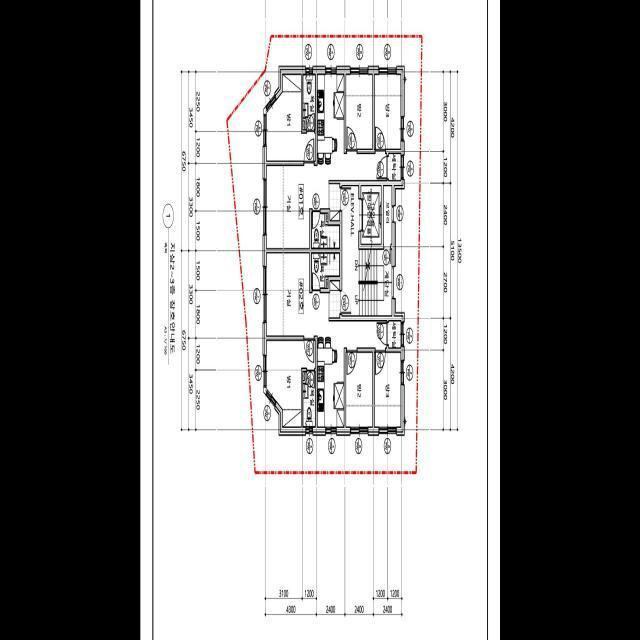background: (140, 0, 500, 640)
space_bedroom: (266, 75, 315, 161), (266, 341, 315, 426), (346, 352, 372, 427), (346, 75, 372, 149), (374, 75, 400, 149), (374, 353, 400, 426)
space_elevator: (361, 186, 381, 244)
space_elevator_hall: (342, 186, 358, 315)
space_front: (330, 184, 340, 220), (330, 281, 340, 317)
space_kitchen: (317, 75, 343, 154), (317, 347, 343, 426)
space_living_room: (266, 253, 386, 347), (266, 154, 386, 248)
space_other: (383, 186, 391, 244), (388, 321, 400, 347), (388, 154, 400, 180)
space_staircase: (358, 250, 391, 315)
space_toilet: (311, 254, 339, 287), (312, 214, 339, 247), (303, 75, 315, 129), (303, 373, 315, 426)
